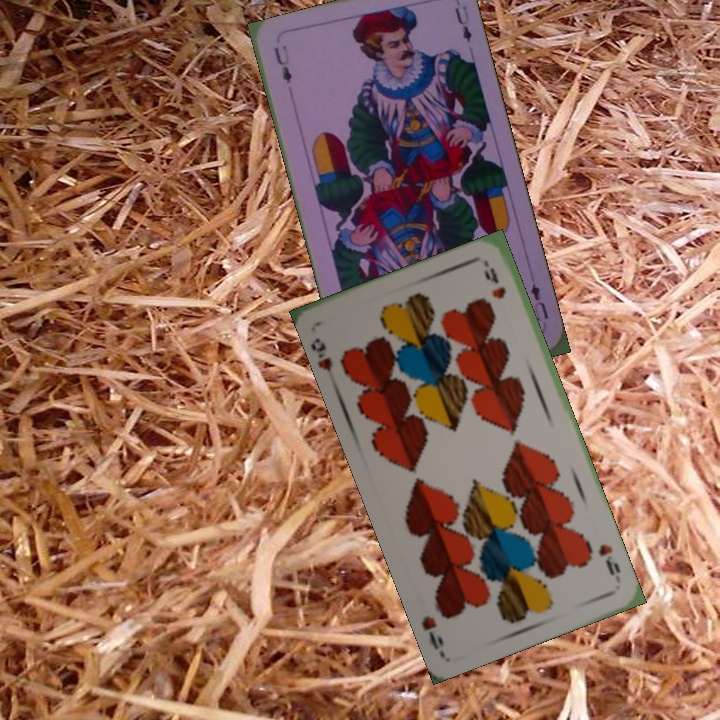EU: (526, 279, 551, 324), (270, 41, 295, 86)
H9: (594, 540, 623, 578), (308, 334, 335, 374)
